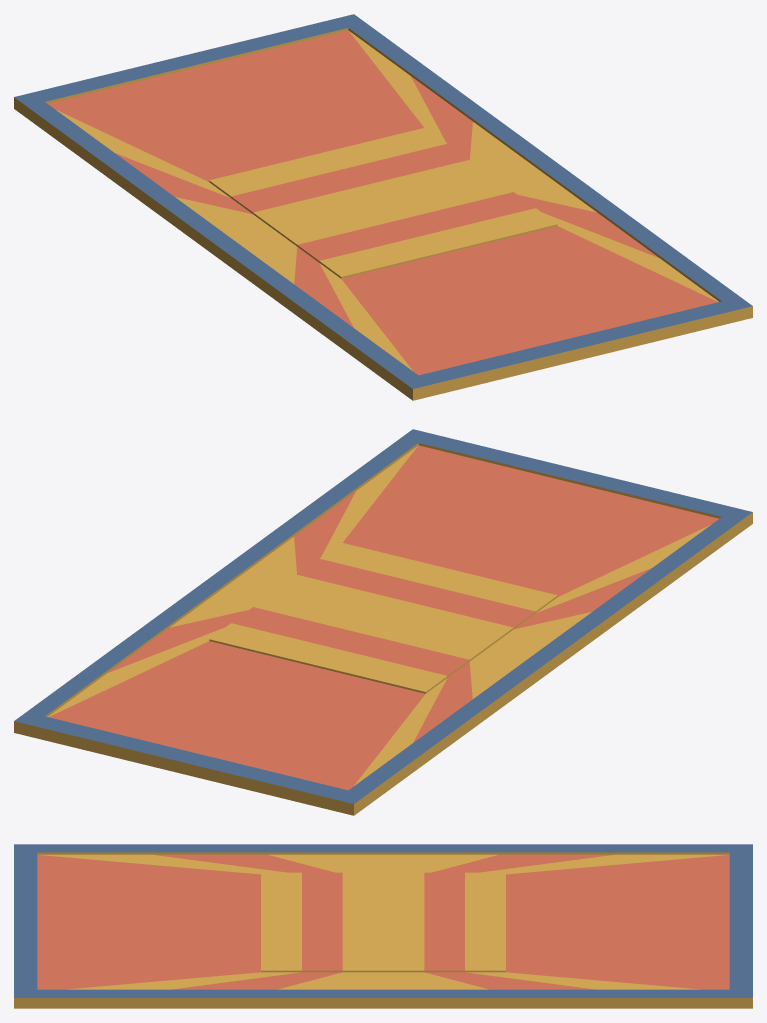
File: hali2.fbx
The picture shows the model from 3 angles, top to bottom: view 1: azimuth 30°, elevation 25°; view 2: azimuth 150°, elevation 25°; view 3: azimuth 270°, elevation 25°; orthographic projection. The views are drawn at different scales.
Parts seen in each view (by area): view 1: Plane; view 2: Plane; view 3: Plane.
Boxes of the visible parts, x1,y1,x2,y2 form: Plane: [14, 14, 752, 400]; Plane: [14, 429, 752, 815]; Plane: [14, 844, 752, 1008].
Bounding box in the file's own units: 342 × 11.28 × 694.
